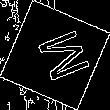M_W: (23, 24, 87, 86)
